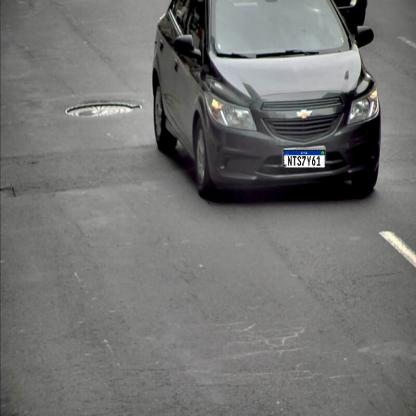PlacaM: (284, 150, 326, 168)
